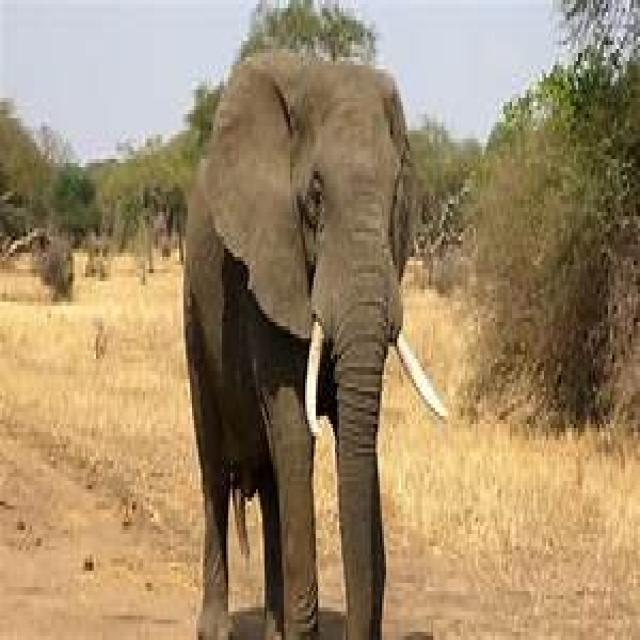elephant: (183, 49, 448, 640)
